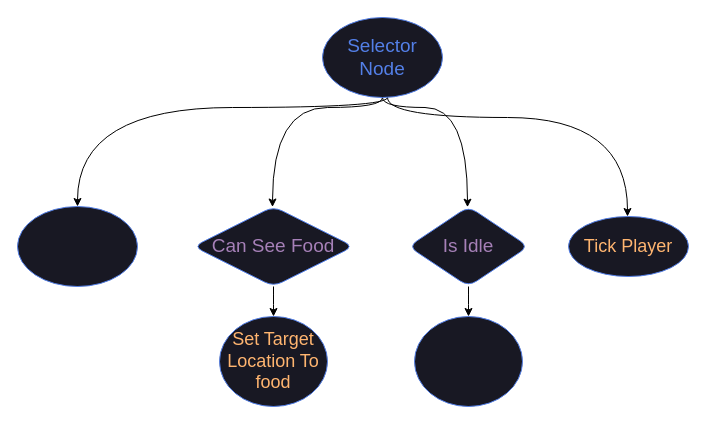
Some shapes in this 706 by 424 pixel diagram are drawn without their labels. Here are the shapes that lost their labels. From the top down, the centre of each, then its label:
point 77,246: Eat Close Node
point 468,361: Find New Target Location
